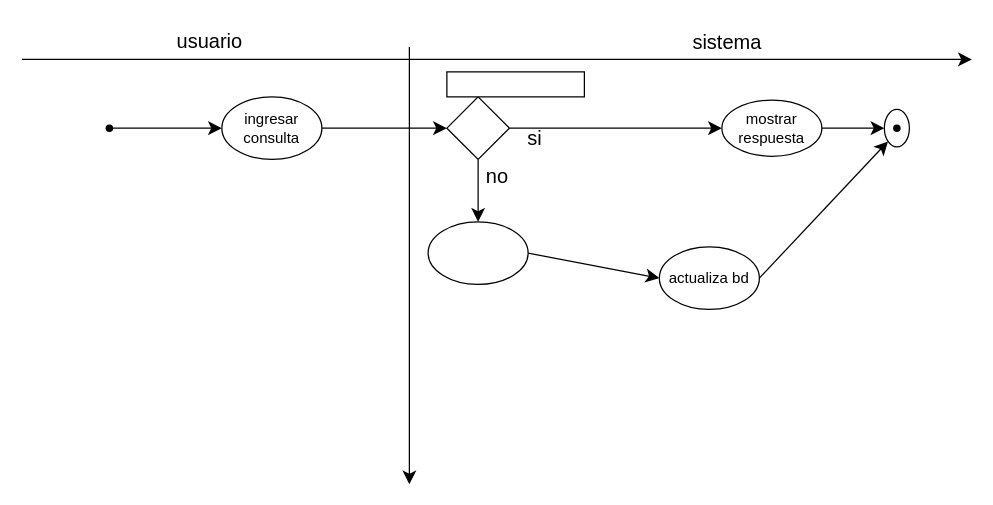
Some shapes in this 993 by 505 pixel diagram are drawn without their labels. Each missing label, with the centre of its shape:
"respuesta no encontrada" goes at pixel 477 252.
"¿existe la consulta?" goes at pixel 515 84.
